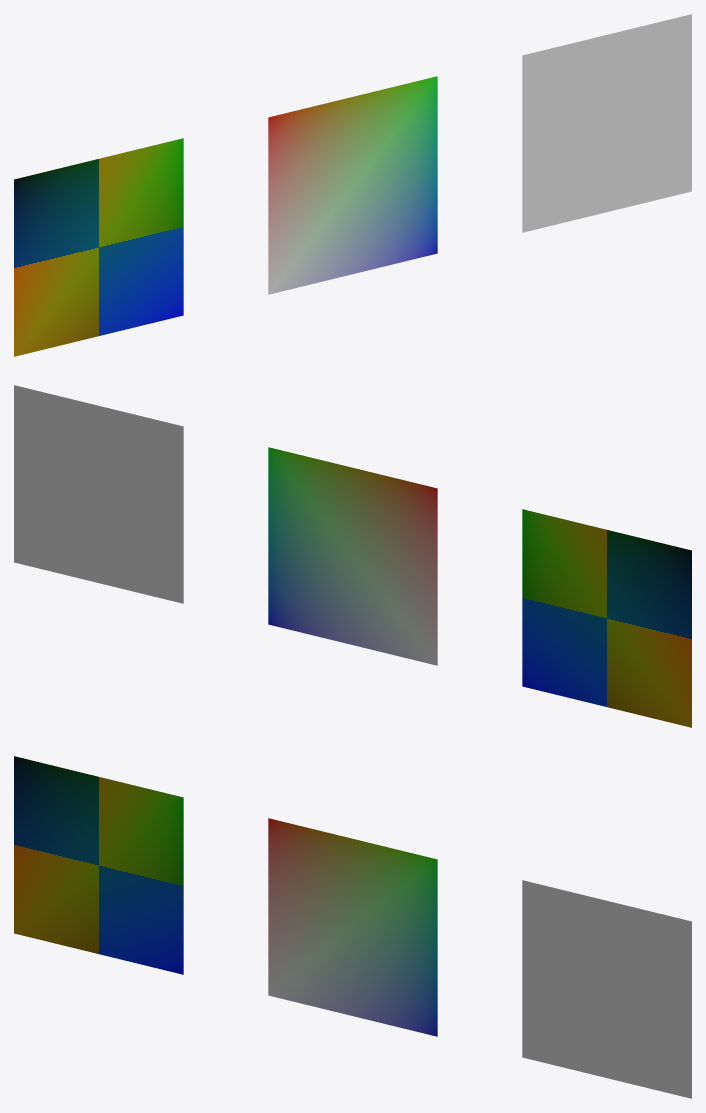
The model's file is Attributes.gltf.
3 views of the same model, one above another, from view 1: azimuth 30°, elevation 25°; view 2: azimuth 150°, elevation 25°; view 3: azimuth 330°, elevation 25° (orthographic).
Parts seen in each view (by area): view 1: Painted; view 2: Painted; view 3: Painted.
Part boxes in pixels (box(x1,y1,x2,y2)): Painted: box(14, 14, 691, 356); Painted: box(14, 385, 691, 727); Painted: box(14, 756, 691, 1098).
Bounding box in the file's own units: 4 × 1 × 0.
3 materials, 1 textured.
